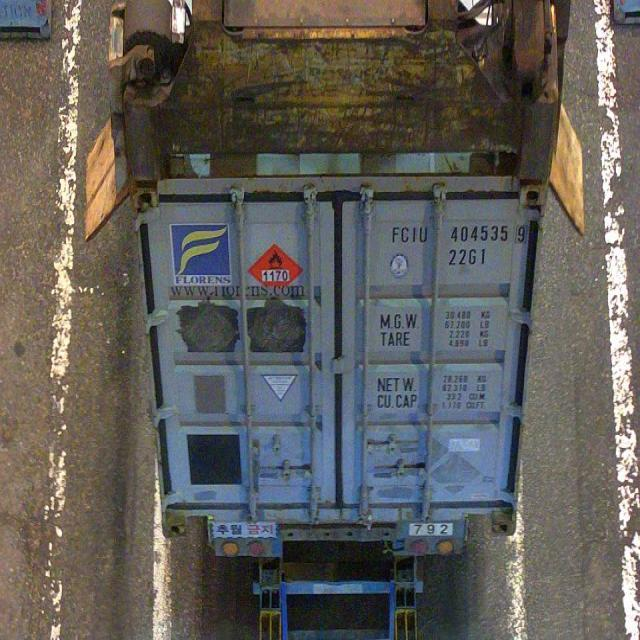ISO: (448, 248, 488, 266)
container_number: (390, 218, 528, 248)
